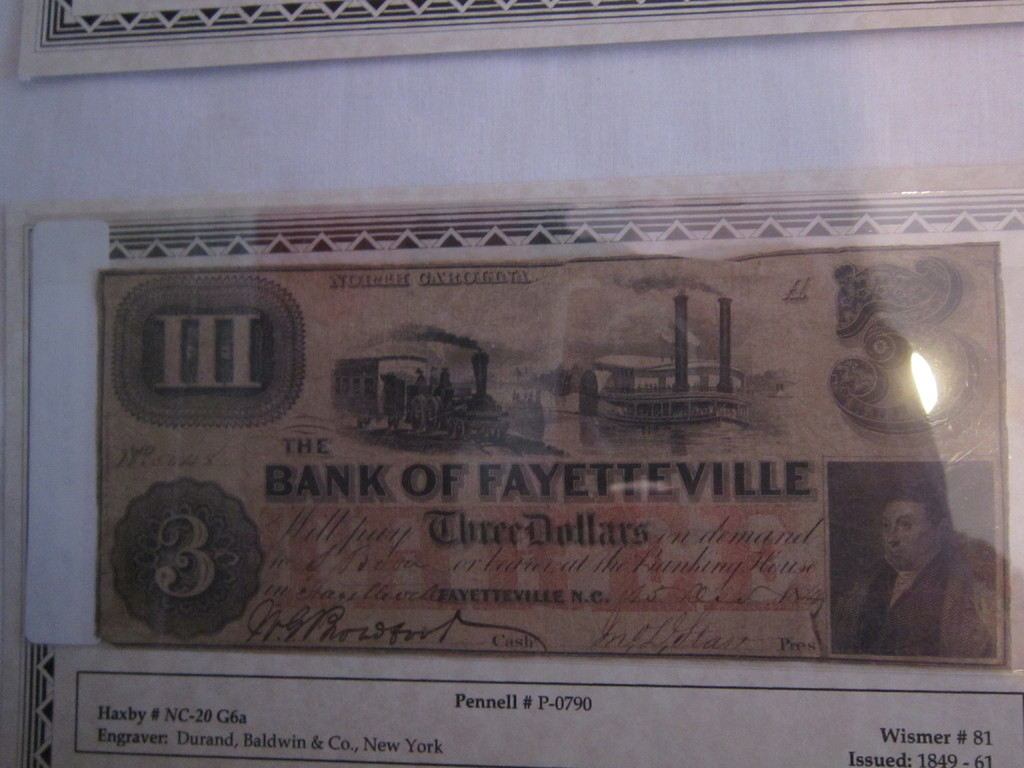Person: (835, 477, 999, 658)
